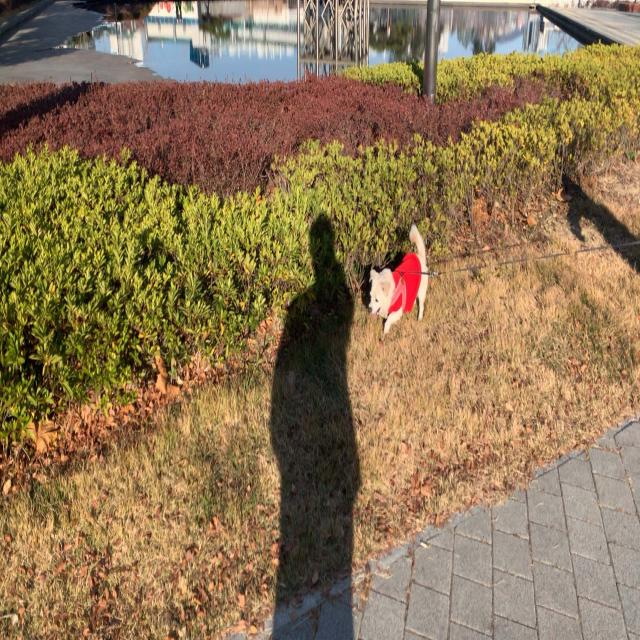Dog: (366, 220, 429, 333)
